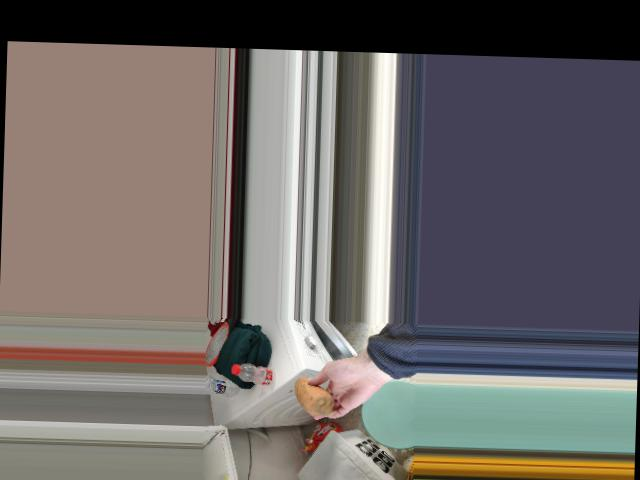sweet_potato: (293, 372, 340, 413)
